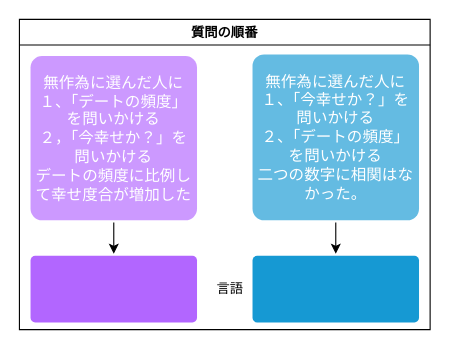
This 450x350 diagram has some shape labels left out. The shapes that lost their labels are listed below. From the top down, each one's centre as x and y in pixels, then its label:
At pixel 113 288: "答えるのに苦労する質問は後に回すことで 答えをコントロール".
At pixel 335 288: "現状維持".
